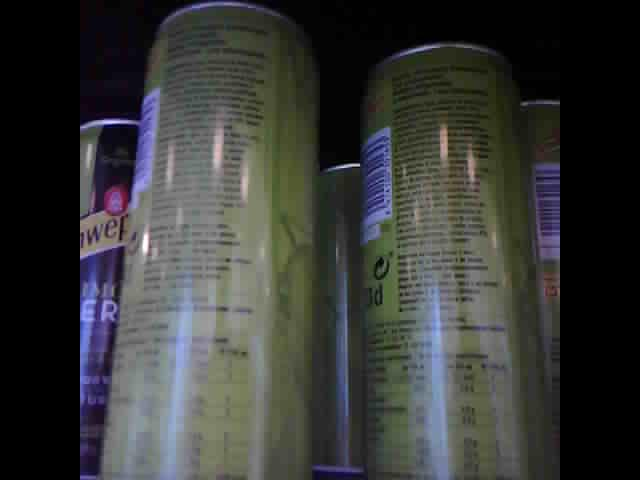schweppes: (98, 1, 331, 479), (363, 28, 531, 477), (508, 78, 560, 461), (80, 110, 139, 411), (320, 148, 359, 477)
